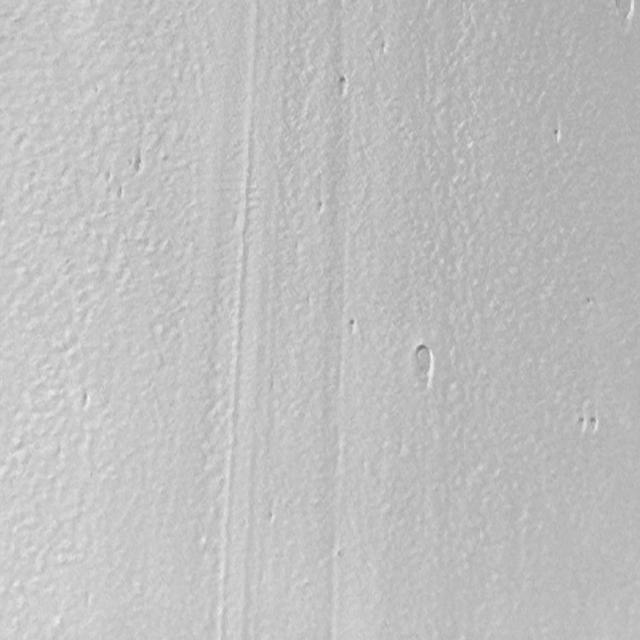pin holes: (409, 342, 437, 389), (610, 0, 639, 31), (577, 414, 600, 437), (333, 73, 352, 97), (575, 413, 591, 435), (80, 385, 90, 416), (134, 154, 145, 178), (346, 318, 359, 338), (587, 414, 600, 433), (551, 126, 563, 143), (103, 169, 113, 185)
